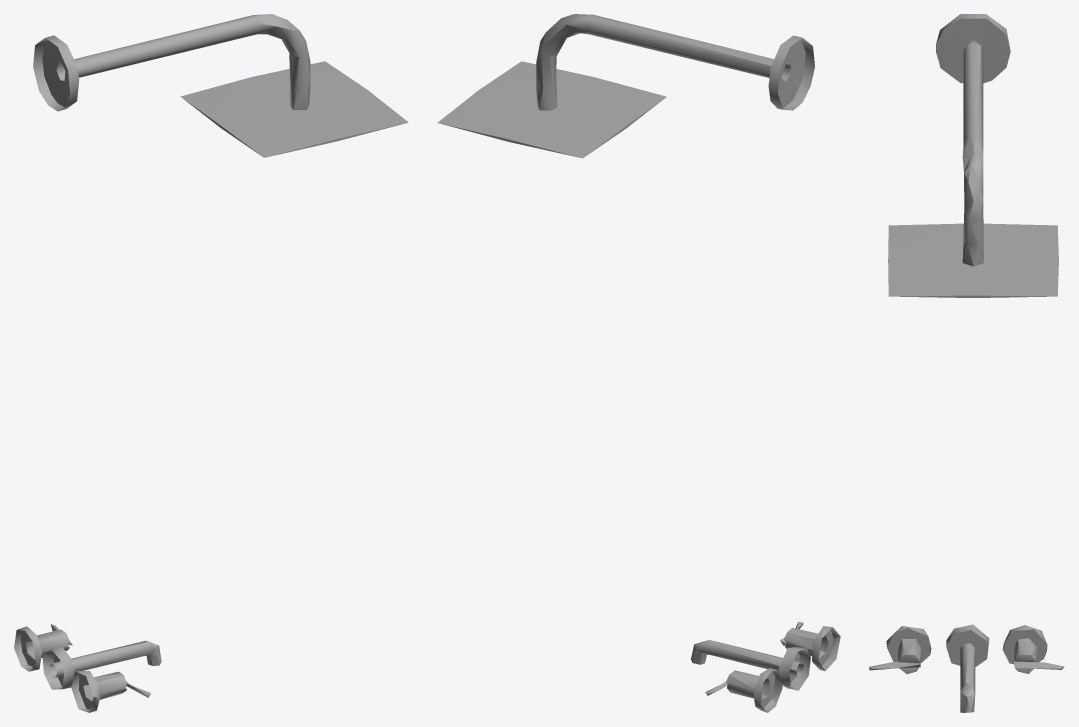
File: WallShowerHead0001.obj
3 renders of one model, left to right at view 1: azimuth 30°, elevation 25°; view 2: azimuth 150°, elevation 25°; view 3: azimuth 270°, elevation 25°, orthographic.
Bounding box in the file's own units: 0.649 × 1.26 × 0.343.
1 material, 1 textured.
